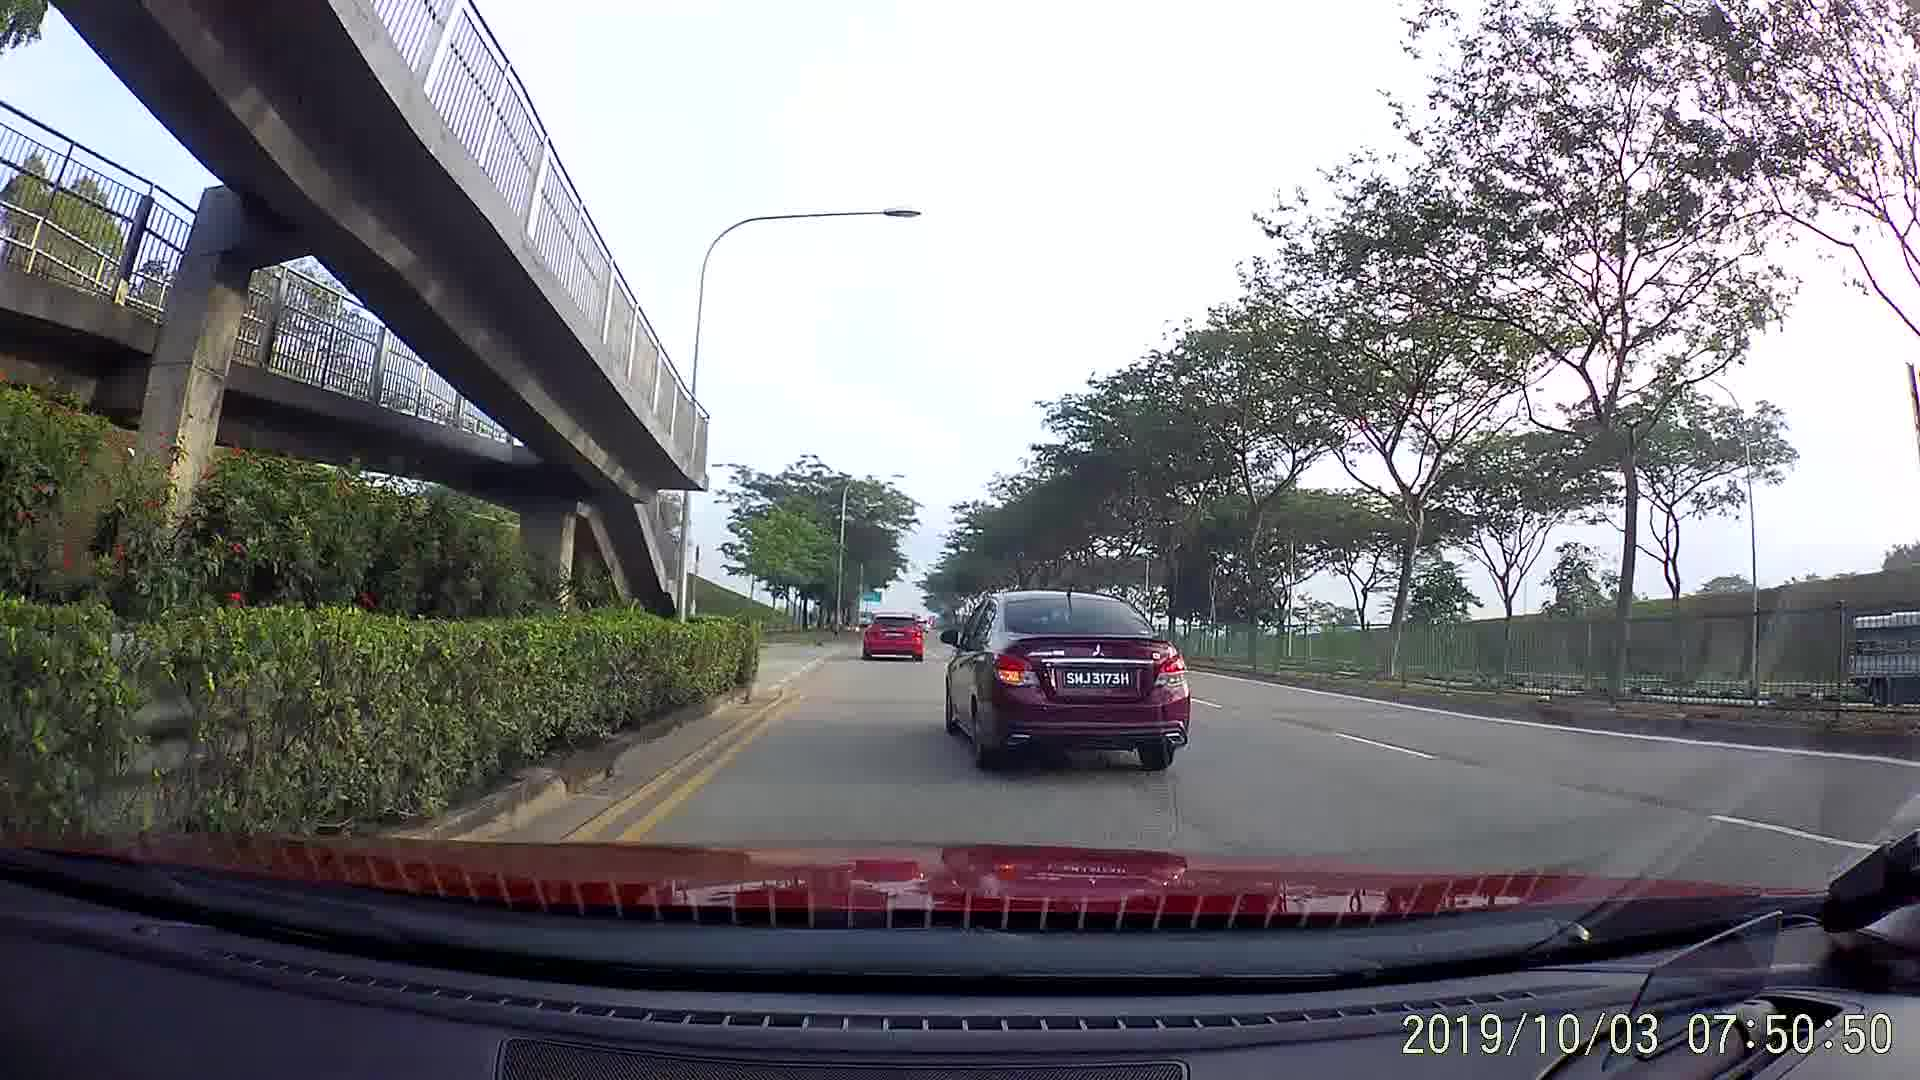car: (940, 592, 1189, 775), (860, 613, 924, 663)
